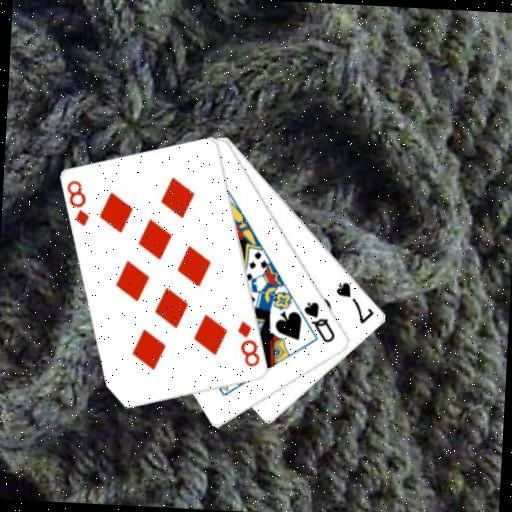7S: (332, 278, 378, 326)
8D: (233, 318, 264, 370), (63, 177, 93, 229)
QS: (299, 298, 339, 345)
